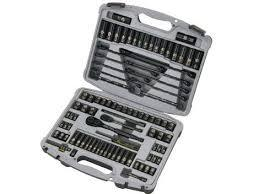wrench: (84, 114, 144, 141)
